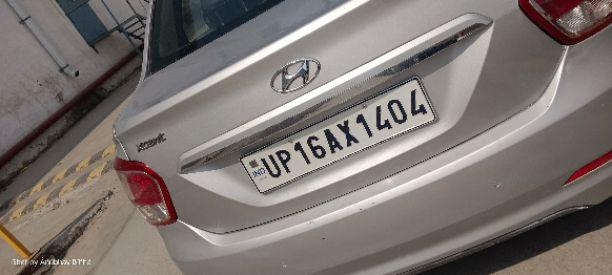license_plate: (110, 0, 610, 273), (238, 74, 439, 194)
